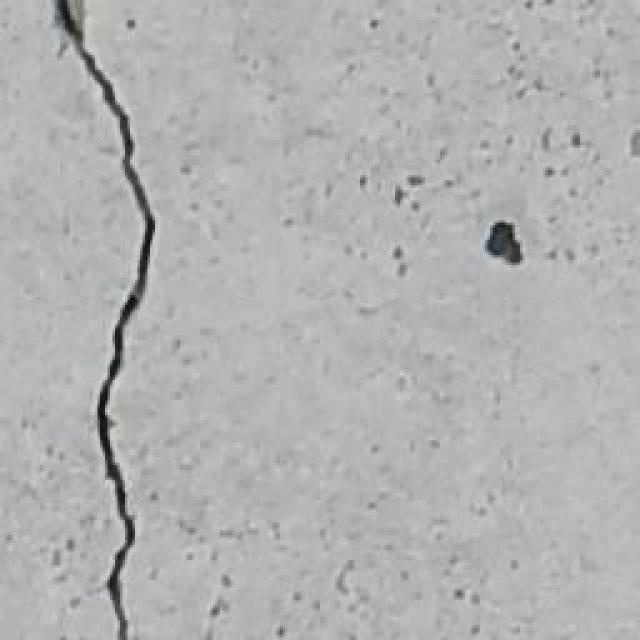concrete-crack: (50, 0, 162, 640)
